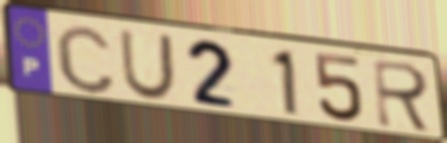1: (268, 47, 301, 118)
2: (183, 37, 243, 113)
5: (311, 51, 366, 125)
C: (52, 22, 119, 96)
R: (371, 57, 436, 136)
U: (117, 28, 178, 103)
